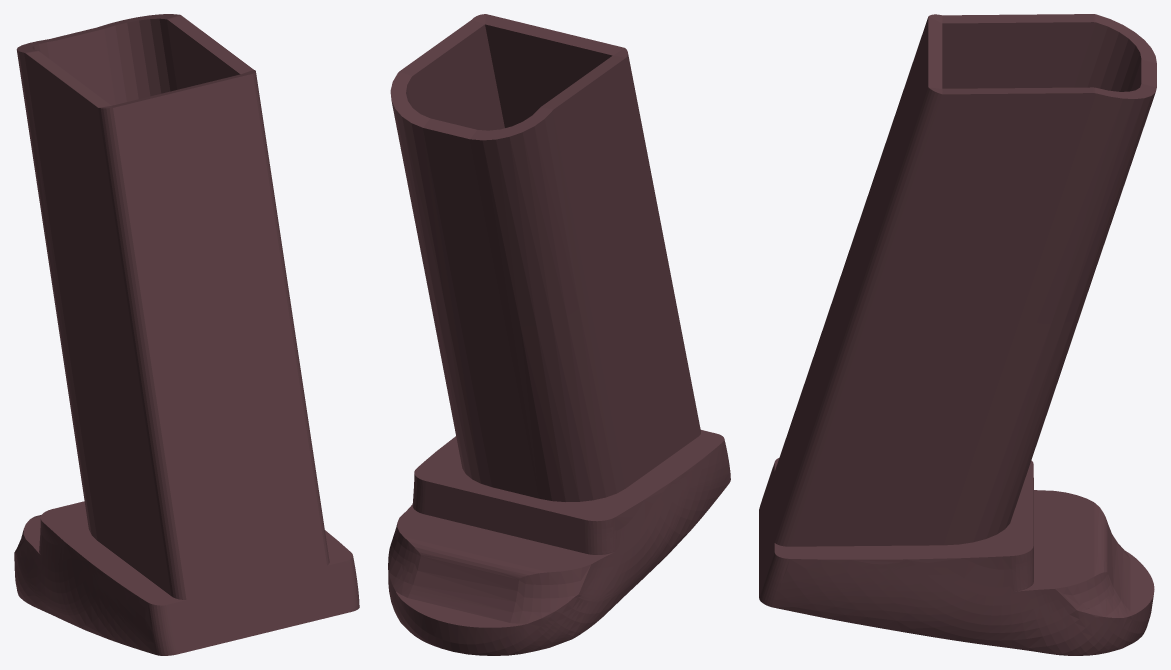
File: hk-compact.magazine.source.glb
3 renders of one model, left to right at view 1: azimuth 30°, elevation 25°; view 2: azimuth 150°, elevation 25°; view 3: azimuth 270°, elevation 25°, orthographic. The views are drawn at different scales.
Parts seen in each view (by area): view 1: Cargador cortado; view 2: Cargador cortado; view 3: Cargador cortado.
Part boxes in pixels (box(x1,y1,x2,y2)): Cargador cortado: box(14, 14, 359, 655); Cargador cortado: box(388, 14, 730, 655); Cargador cortado: box(759, 14, 1156, 655).
Size of the model in its own units: 32.41 by 77.94 by 49.35.
